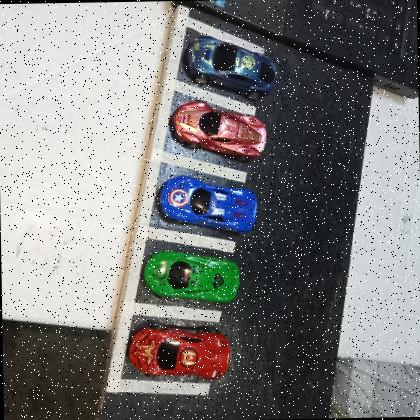Car: (156, 172, 260, 236), (168, 98, 269, 163), (184, 32, 280, 100), (126, 321, 232, 381), (139, 246, 241, 306)
